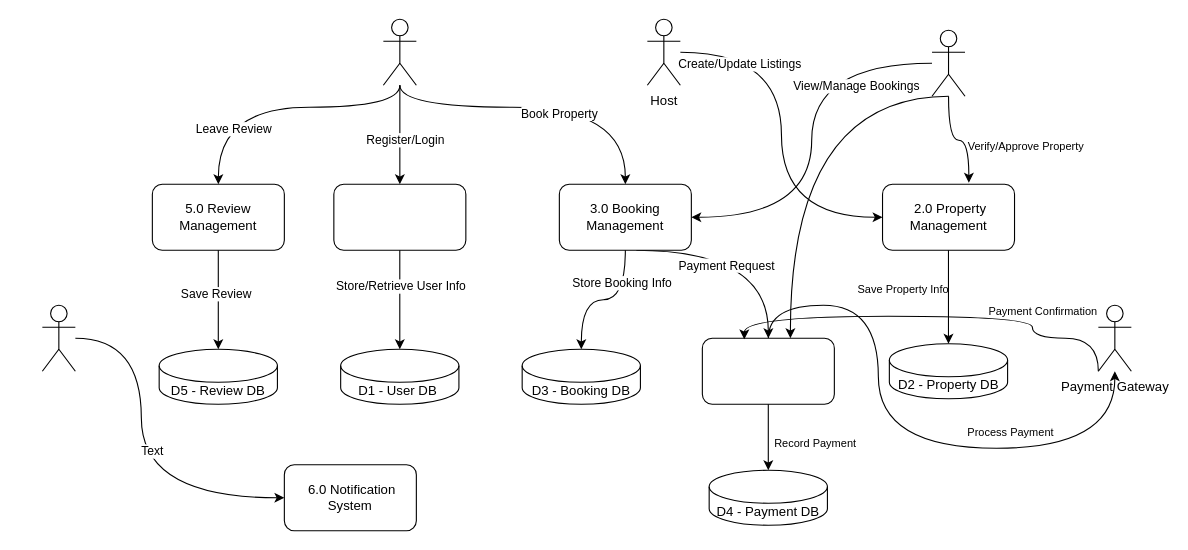
Image size: 1188x550. Some labels were removed from this diagram. The centre of each missing label's shape, as x and y in pixels:
1.0 User Management: the point at 399,216
4.0 Payment Processing: the point at 767,370
Admin: the point at 948,62
Email Service: the point at 58,337
Guest: the point at 399,51
